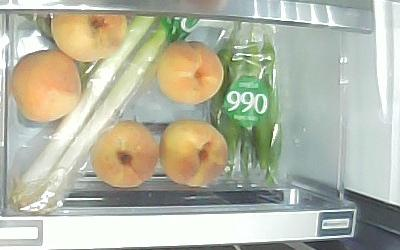peach: (11, 51, 82, 123), (89, 120, 160, 189), (159, 119, 227, 186), (157, 40, 225, 104), (51, 14, 127, 61)
